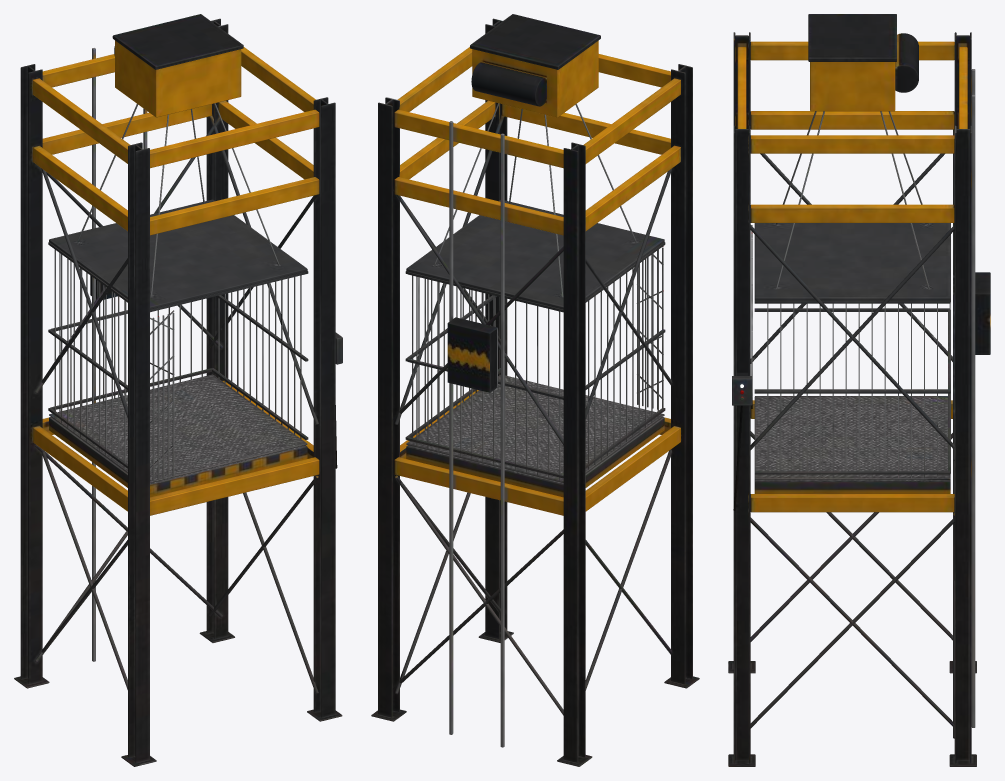
The model's file is freight_lift.glb.
The picture shows the model from 3 angles, left to right: view 1: azimuth 30°, elevation 25°; view 2: azimuth 150°, elevation 25°; view 3: azimuth 270°, elevation 25°; orthographic projection. The views are drawn at different scales.
Visible parts, largest first — view 1: freight_lift; view 2: freight_lift; view 3: freight_lift.
Part boxes in pixels (bbox=[...]): freight_lift: bbox=[14, 14, 342, 766]; freight_lift: bbox=[371, 14, 699, 766]; freight_lift: bbox=[728, 14, 990, 766].
Size of the model in its own units: 2.98 by 8.8 by 3.08.
Materials: 2 (2 with a texture image).
